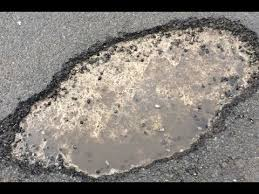pothole: (13, 17, 259, 181)
